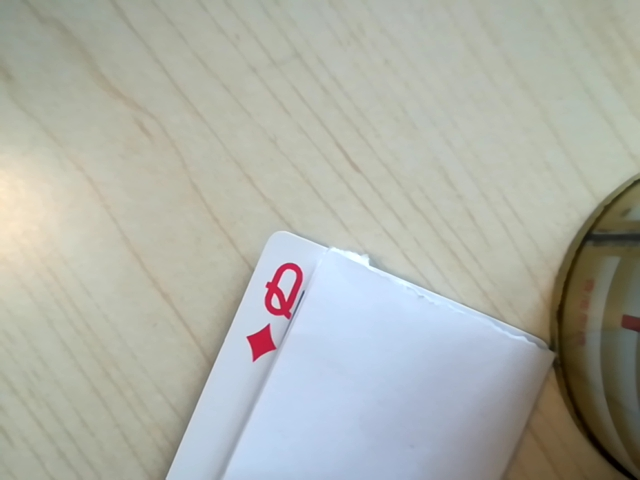fk q: (239, 253, 315, 365)
